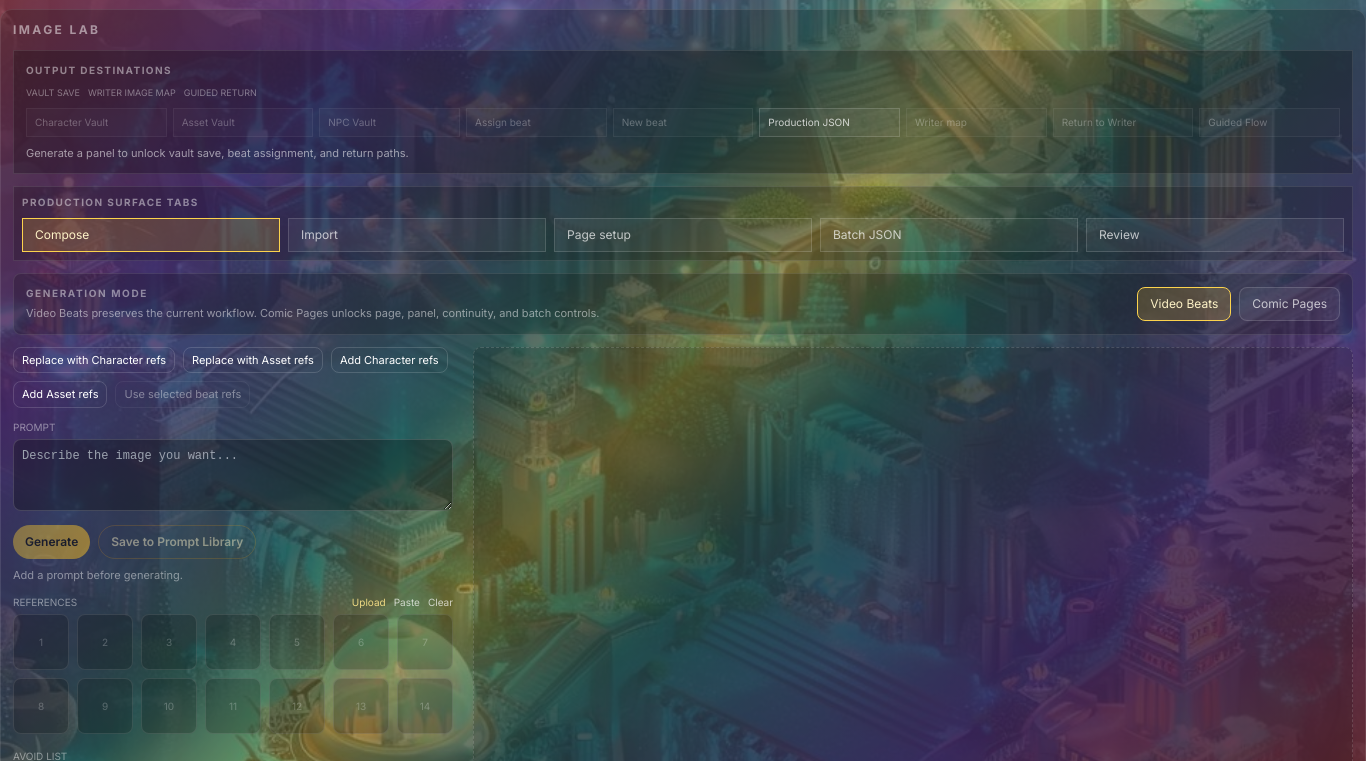
Scenario: GenericImageLabPanel production studio shell › reveals comic page configuration after switching to Comic Pages mode
Expected: the text "Comic Page Configuration" is not shown
Click the button "Comic Pages": (1290, 304) [1239, 287, 1340, 321]
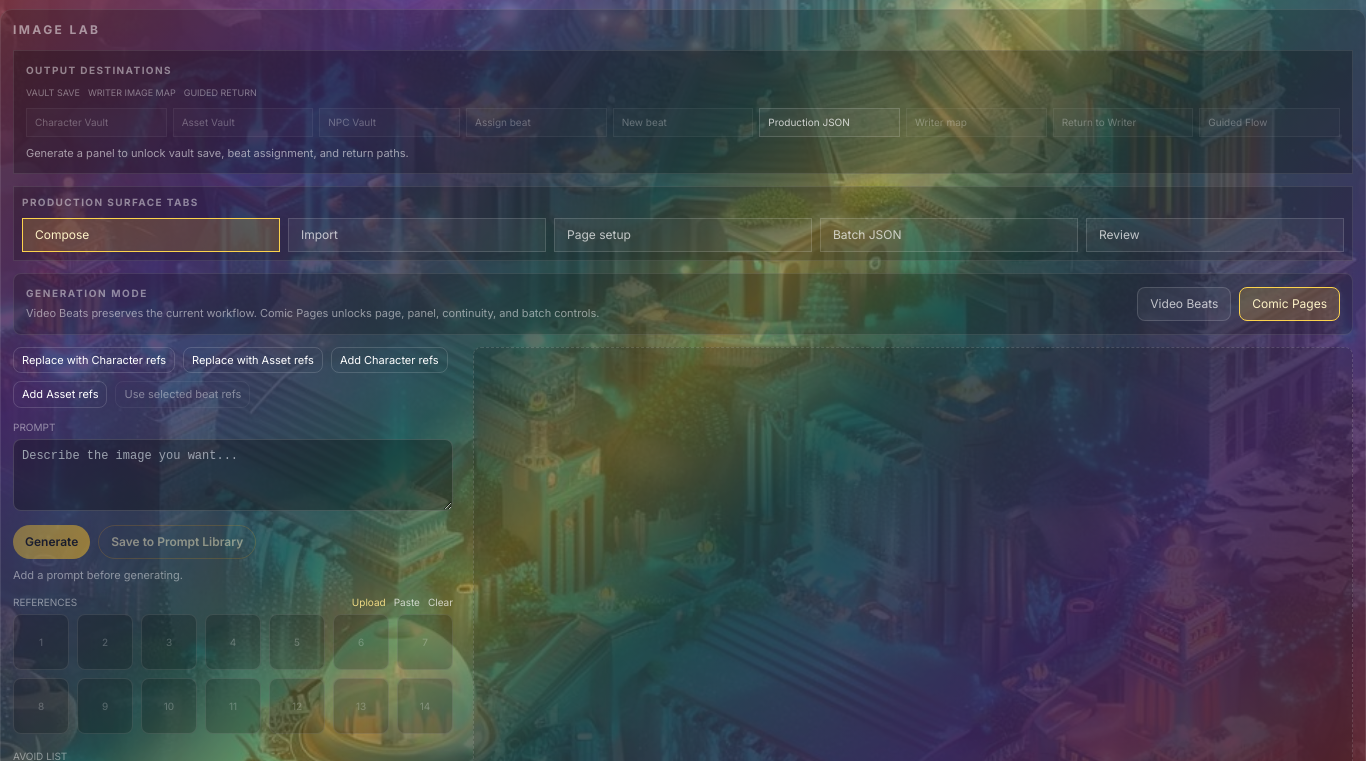
Click the button "Page setup": (683, 235) [554, 218, 812, 252]
(page scrolled)
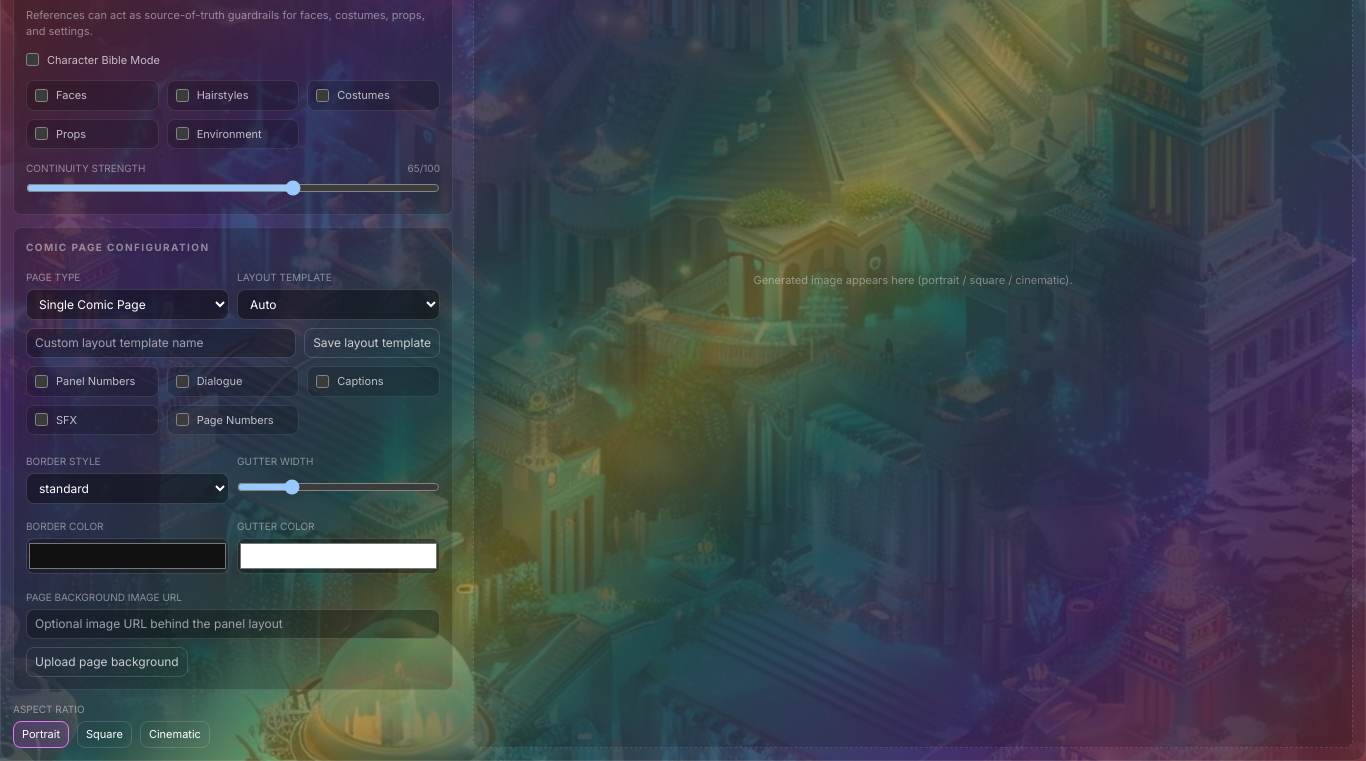
Expected: the text "Page Type" is shown, [26, 271, 80, 283]
Expected: the text "Comic Page Configuration" is shown, [26, 241, 209, 253]
Expected: the text "Layout Template" is shown, [237, 271, 332, 283]
